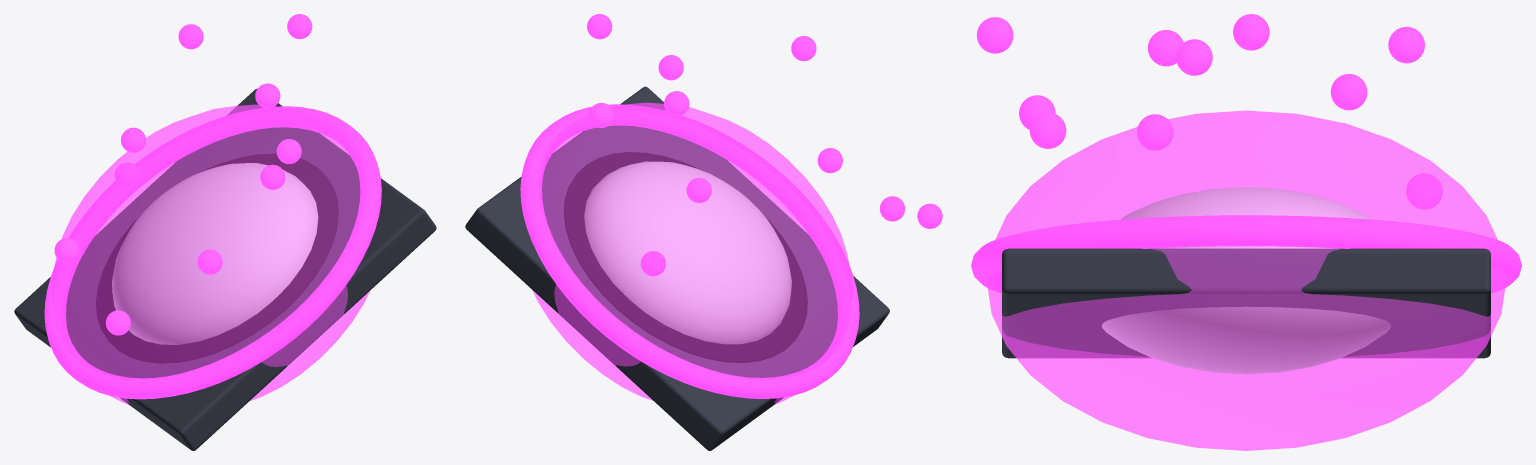
The model's file is PlasmaRifle_Impact.fbx.
The picture shows the model from 3 angles, left to right: view 1: azimuth 30°, elevation 25°; view 2: azimuth 150°, elevation 25°; view 3: azimuth 270°, elevation 25°; orthographic projection. The views are drawn at different scales.
Parts seen in each view (by area): view 1: PlasmaRifle_Impact_Pro_Glass_pink_0.45, PlasmaRifle_Impact_Pro_Plastic_Grey, PlasmaRifle_Impact_Pro_Glow_white_16, PlasmaRifle_Impact_Pro_Glow_pink_10, PlasmaRifle_Impact_Pro_Scorch, PlasmaRifle_Impact_Pro_Glow_pink_12; view 2: PlasmaRifle_Impact_Pro_Glass_pink_0.45, PlasmaRifle_Impact_Pro_Plastic_Grey, PlasmaRifle_Impact_Pro_Glow_white_16, PlasmaRifle_Impact_Pro_Glow_pink_10, PlasmaRifle_Impact_Pro_Scorch, PlasmaRifle_Impact_Pro_Glow_pink_12; view 3: PlasmaRifle_Impact_Pro_Glass_pink_0.45, PlasmaRifle_Impact_Pro_Plastic_Grey, PlasmaRifle_Impact_Pro_Glow_white_16, PlasmaRifle_Impact_Pro_Glow_pink_10, PlasmaRifle_Impact_Pro_Glow_pink_12.
Part boxes in pixels (box(x1,y1,x2,y2)): PlasmaRifle_Impact_Pro_Glass_pink_0.45: box(51, 104, 369, 404); PlasmaRifle_Impact_Pro_Plastic_Grey: box(14, 88, 436, 450); PlasmaRifle_Impact_Pro_Glow_white_16: box(112, 163, 318, 344); PlasmaRifle_Impact_Pro_Glow_pink_10: box(44, 106, 381, 399); PlasmaRifle_Impact_Pro_Scorch: box(96, 153, 338, 363); PlasmaRifle_Impact_Pro_Glow_pink_12: box(54, 14, 312, 335); PlasmaRifle_Impact_Pro_Glass_pink_0.45: box(532, 102, 852, 404); PlasmaRifle_Impact_Pro_Plastic_Grey: box(465, 86, 889, 450); PlasmaRifle_Impact_Pro_Glow_white_16: box(584, 161, 791, 344); PlasmaRifle_Impact_Pro_Glow_pink_10: box(520, 104, 859, 398); PlasmaRifle_Impact_Pro_Scorch: box(563, 152, 807, 362); PlasmaRifle_Impact_Pro_Glow_pink_12: box(587, 14, 942, 276); PlasmaRifle_Impact_Pro_Glass_pink_0.45: box(986, 110, 1506, 450); PlasmaRifle_Impact_Pro_Plastic_Grey: box(1002, 248, 1490, 358); PlasmaRifle_Impact_Pro_Glow_white_16: box(1102, 187, 1390, 374); PlasmaRifle_Impact_Pro_Glow_pink_10: box(971, 215, 1521, 292); PlasmaRifle_Impact_Pro_Glow_pink_12: box(976, 14, 1442, 209).
Size of the model in its own units: 0.3631 by 0.3644 by 0.3604.
